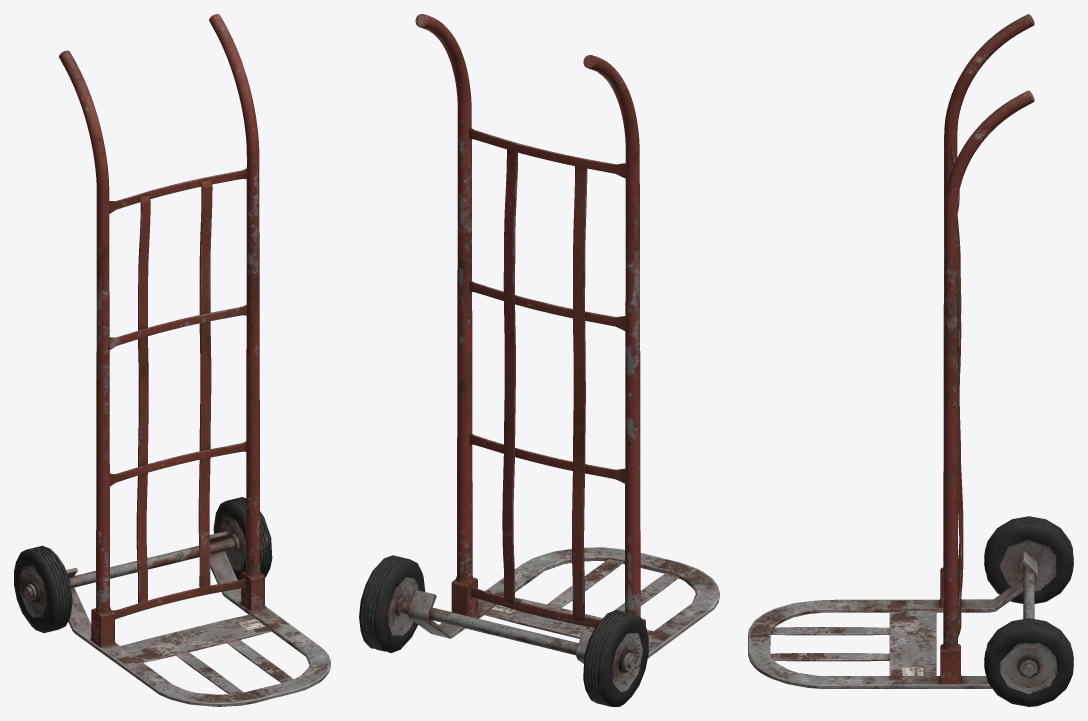
The model's file is hand_truck.glb.
The picture shows the model from 3 angles, left to right: view 1: azimuth 30°, elevation 25°; view 2: azimuth 150°, elevation 25°; view 3: azimuth 270°, elevation 25°; orthographic projection. The views are drawn at different scales.
Parts seen in each view (by area): view 1: hand_truck; view 2: hand_truck; view 3: hand_truck.
Part boxes in pixels (x1,y1,x2,y2): hand_truck: [14, 14, 330, 706]; hand_truck: [359, 14, 719, 706]; hand_truck: [748, 14, 1073, 706].
Size of the model in its own units: 0.5932 by 1.4 by 0.6923.
1 material, 1 textured.
